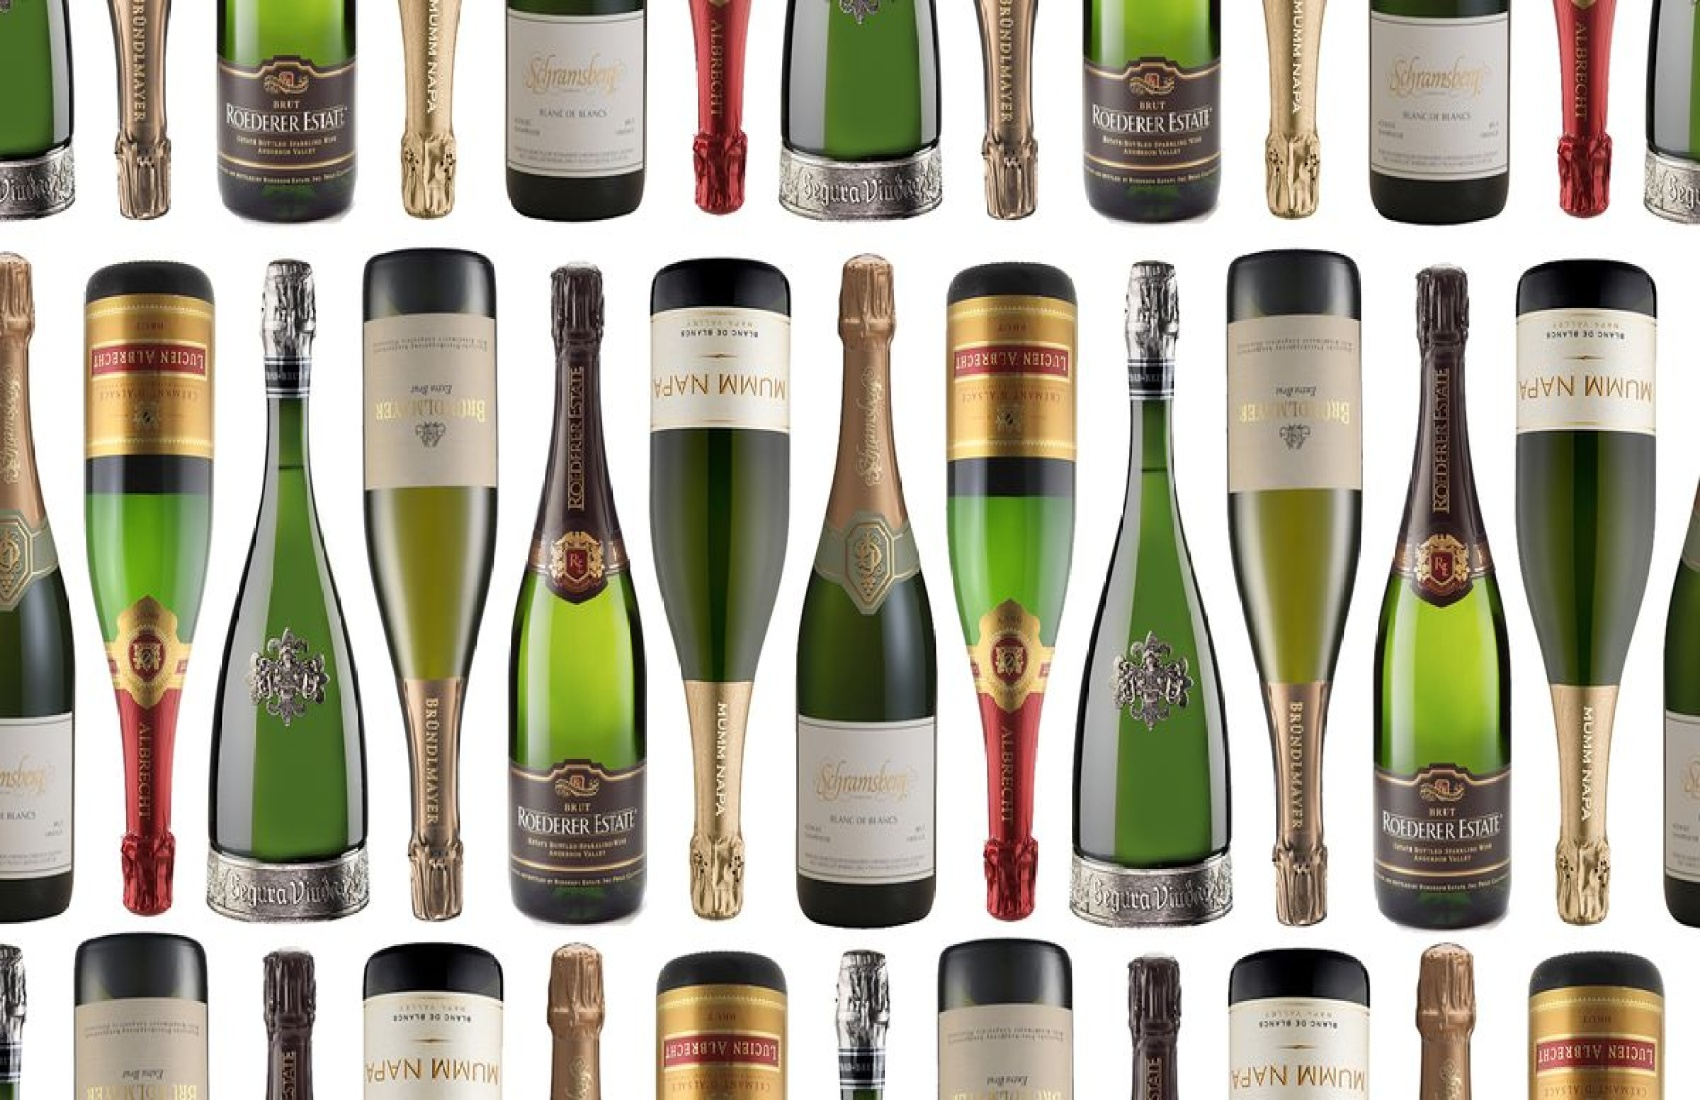wine: (800, 247, 938, 912), (1378, 259, 1515, 924), (1233, 253, 1370, 918), (644, 266, 781, 932), (1084, 255, 1220, 920), (1514, 251, 1650, 915), (517, 268, 651, 914), (227, 261, 361, 907), (361, 254, 493, 901)
